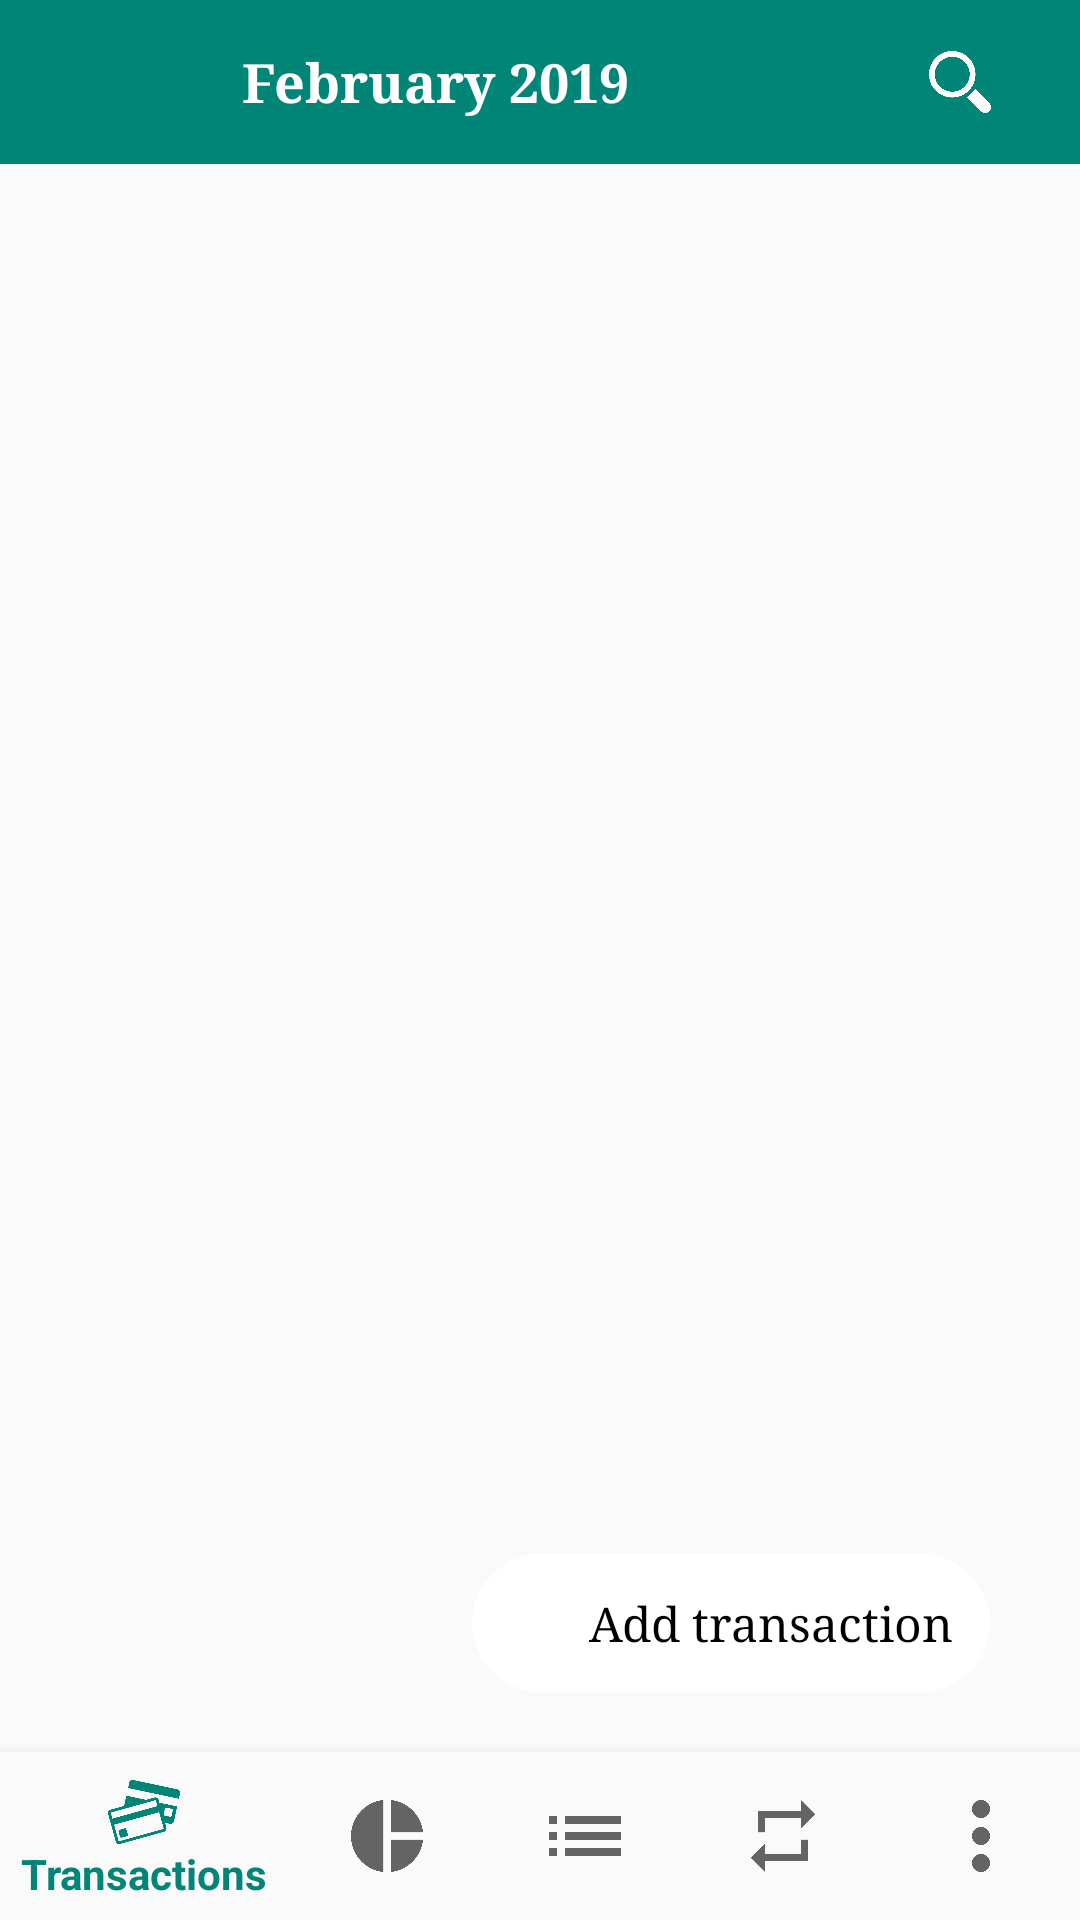

Screen size 1080*1920. Icon name, then its center in pixels as (x=x, y=y):
search: (x=960, y=82)
